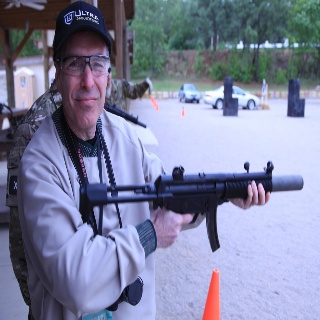rifle: (82, 160, 304, 253)
